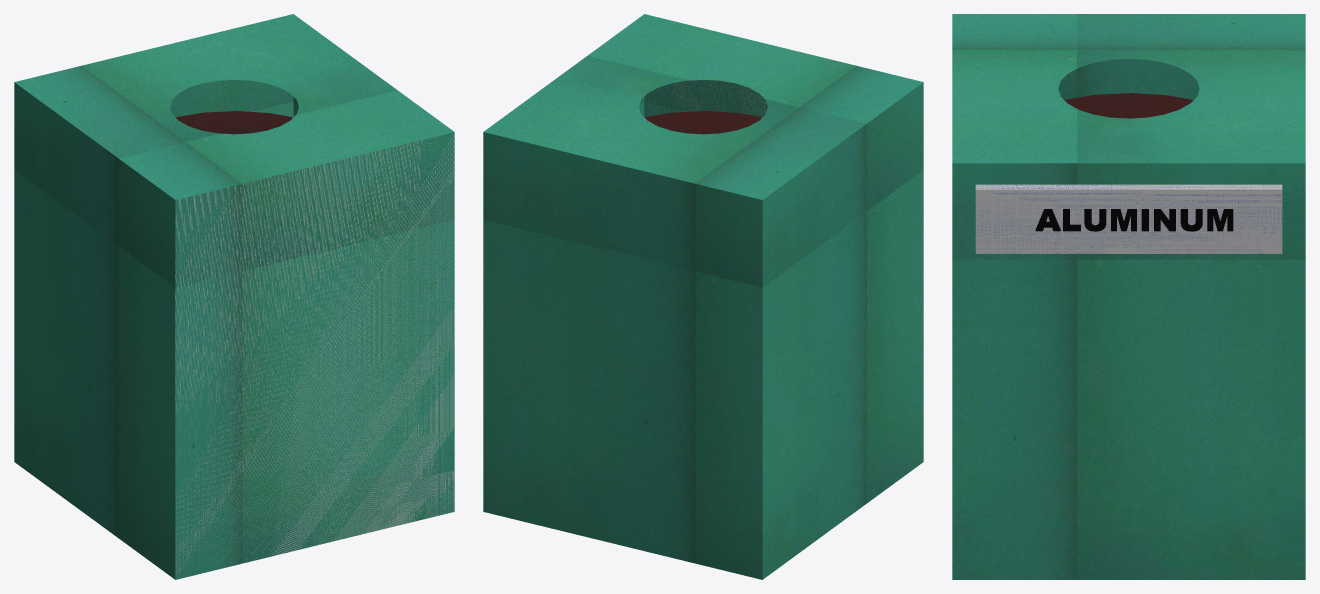
3 renders of one model, left to right at view 1: azimuth 30°, elevation 25°; view 2: azimuth 150°, elevation 25°; view 3: azimuth 270°, elevation 25°, orthographic. The views are drawn at different scales.
Parts seen in each view (by area): view 1: mesh18_mesh18-geometry, mesh19_mesh19-geometry; view 2: mesh18_mesh18-geometry, mesh19_mesh19-geometry; view 3: mesh18_mesh18-geometry, mesh19_mesh19-geometry, mesh8.001_mesh8-geometry, mesh4.001_mesh4-geometry.
Boxes of the visible parts, x1,y1,x2,y2 form: mesh18_mesh18-geometry: (14,14,454,579); mesh19_mesh19-geometry: (176,111,292,134); mesh18_mesh18-geometry: (483,14,923,579); mesh19_mesh19-geometry: (645,111,761,134); mesh18_mesh18-geometry: (952,14,1305,579); mesh19_mesh19-geometry: (1064,93,1193,118); mesh8.001_mesh8-geometry: (1207,209,1233,231); mesh4.001_mesh4-geometry: (1111,209,1136,231).
Size of the model in its own units: 0.5367 by 0.6688 by 0.5145.
